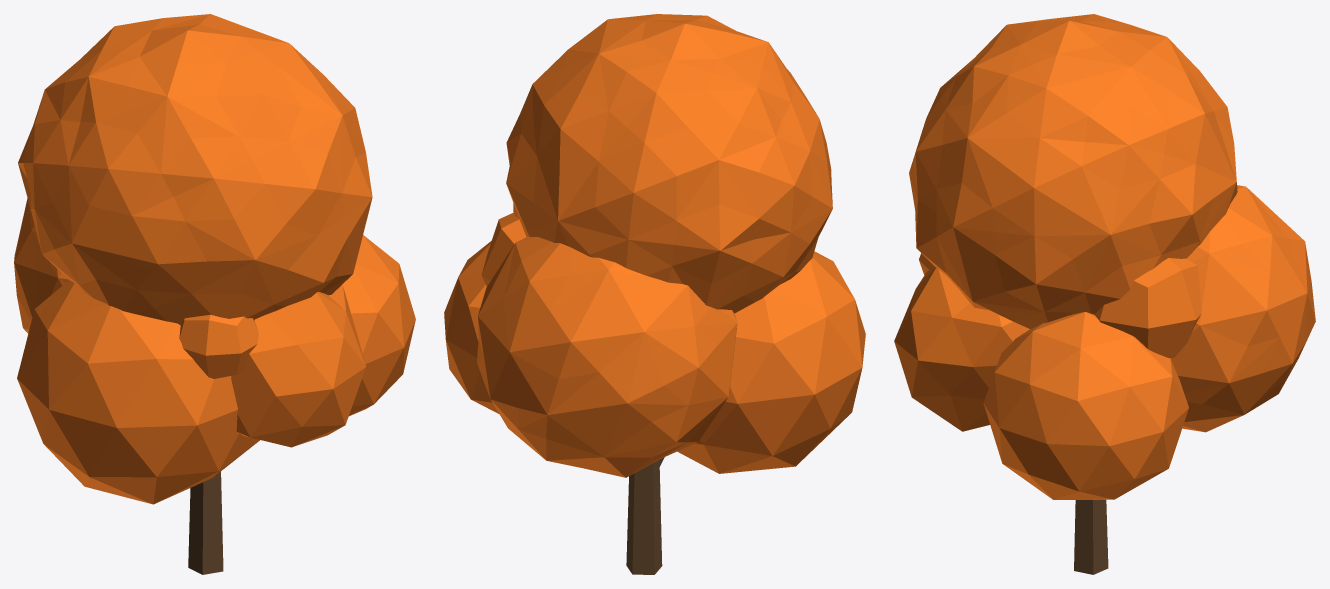
Rendered from tree-lime_orange.glb.
3 renders of one model, left to right at view 1: azimuth 30°, elevation 25°; view 2: azimuth 150°, elevation 25°; view 3: azimuth 270°, elevation 25°, orthographic. The views are drawn at different scales.
Parts seen in each view (by area): view 1: tree-lime_orange; view 2: tree-lime_orange; view 3: tree-lime_orange.
Part boxes in pixels (x1,y1,x2,y2): tree-lime_orange: (14,14,415,574); tree-lime_orange: (444,14,865,574); tree-lime_orange: (894,14,1315,574).
Bounding box in the file's own units: 4.71 × 6.49 × 4.66.
1 material, 1 textured.
